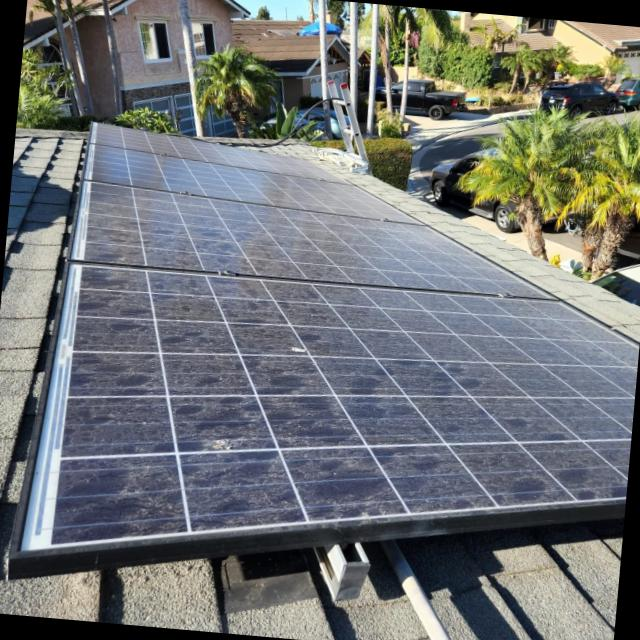faulty: (51, 121, 632, 545)
